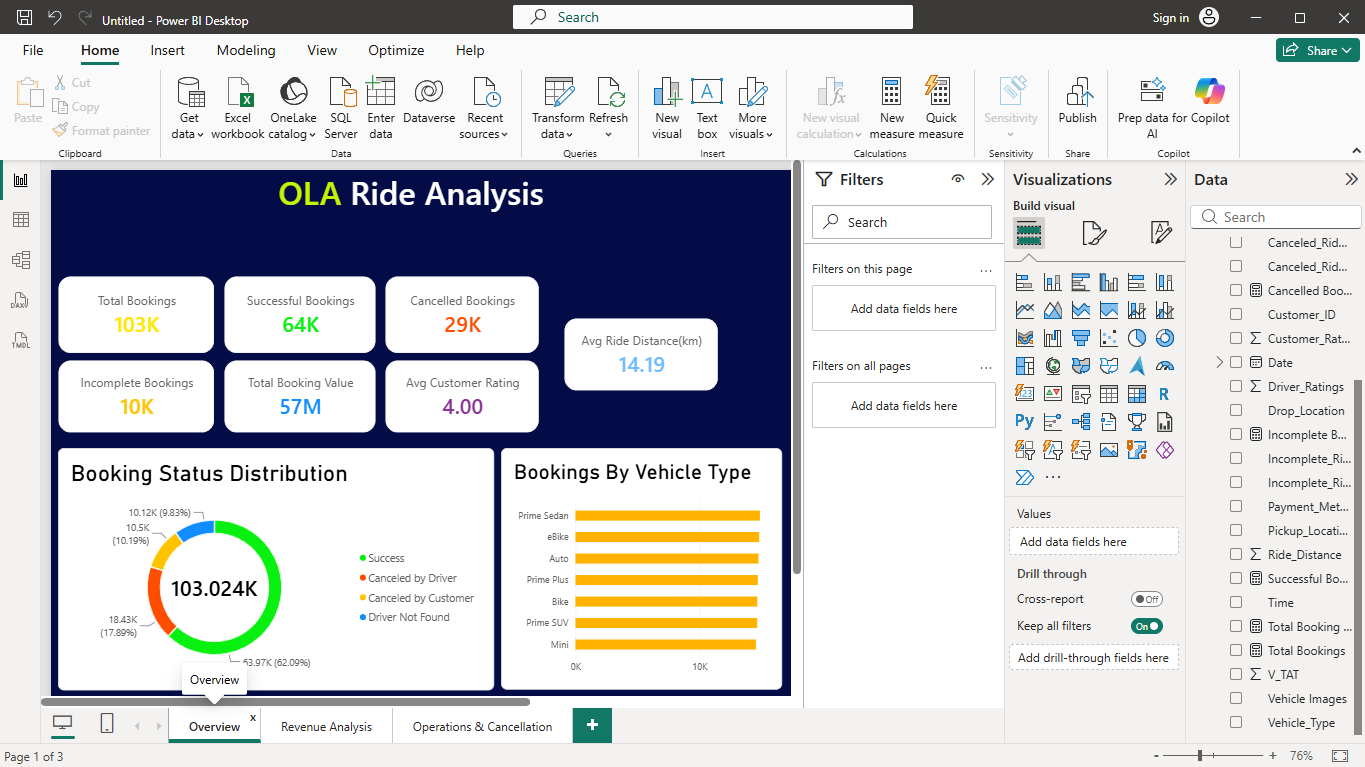

Layout of this report page (visuals, bound fields, positions):
{"tool":"powerbi","page":{"name":"Overview","canvas":[1500,900],"ordinal":0},"visuals":[{"type":"cardVisual","fields":{"Data":["Bookings_ola.Total Bookings"]},"box":[9.2,139.5,206.2,102.5],"z":0},{"type":"cardVisual","fields":{"Data":["Bookings_ola.Successful Bookings"]},"box":[227.6,139.5,200,102.5],"z":1000},{"type":"cardVisual","fields":{"Data":["Bookings_ola.Cancelled Bookings"]},"box":[439.5,139.5,203.8,102.5],"z":2000},{"type":"cardVisual","fields":{"Data":["Bookings_ola.Incomplete Bookings"]},"box":[9.2,250,206.2,96.2],"z":3000},{"type":"cardVisual","fields":{"Data":["Bookings_ola.Total Booking Value"]},"box":[227.6,250,200,96.2],"z":4000},{"type":"cardVisual","fields":{"Data":["Bookings_ola.Avg Customer Rating"]},"box":[439.5,250,203.8,96.2],"z":5000},{"type":"donutChart","title":"Booking Status Distribution","fields":{"Category":["Bookings_ola.Booking_Status"],"Y":["CountNonNull(Bookings_ola.Booking_ID)"]},"box":[9.2,365.8,573.8,318.8],"z":6000},{"type":"clusteredBarChart","title":"Bookings By Vehicle Type","fields":{"Y":["CountNonNull(Bookings_ola.Booking_ID)"],"Category":["Bookings_ola.Vehicle_Type"]},"box":[592.1,365.8,369.7,318.4],"z":7000},{"type":"textbox","box":[160.5,0,626.7,205.3],"z":8000},{"type":"cardVisual","fields":{"Data":["Bookings_ola.Avg Ride Distance"]},"box":[674.7,194.7,203.8,96.2],"z":9000}]}

Visuals, with their boxes on the page's 1500x900 design canvas (x1, y1, x2, y2). These are canvas units, not pixel positions in the 1365x767 screenshot, which may show the page scaled, cropped or inside an application window:
cardVisual - Bookings_ola.Total Bookings: <region>9, 140, 215, 242</region>
cardVisual - Bookings_ola.Successful Bookings: <region>228, 140, 428, 242</region>
cardVisual - Bookings_ola.Cancelled Bookings: <region>440, 140, 643, 242</region>
cardVisual - Bookings_ola.Incomplete Bookings: <region>9, 250, 215, 346</region>
cardVisual - Bookings_ola.Total Booking Value: <region>228, 250, 428, 346</region>
cardVisual - Bookings_ola.Avg Customer Rating: <region>440, 250, 643, 346</region>
"Booking Status Distribution" donutChart: <region>9, 366, 583, 685</region>
"Bookings By Vehicle Type" clusteredBarChart: <region>592, 366, 962, 684</region>
textbox: <region>160, 0, 787, 205</region>
cardVisual - Bookings_ola.Avg Ride Distance: <region>675, 195, 878, 291</region>
